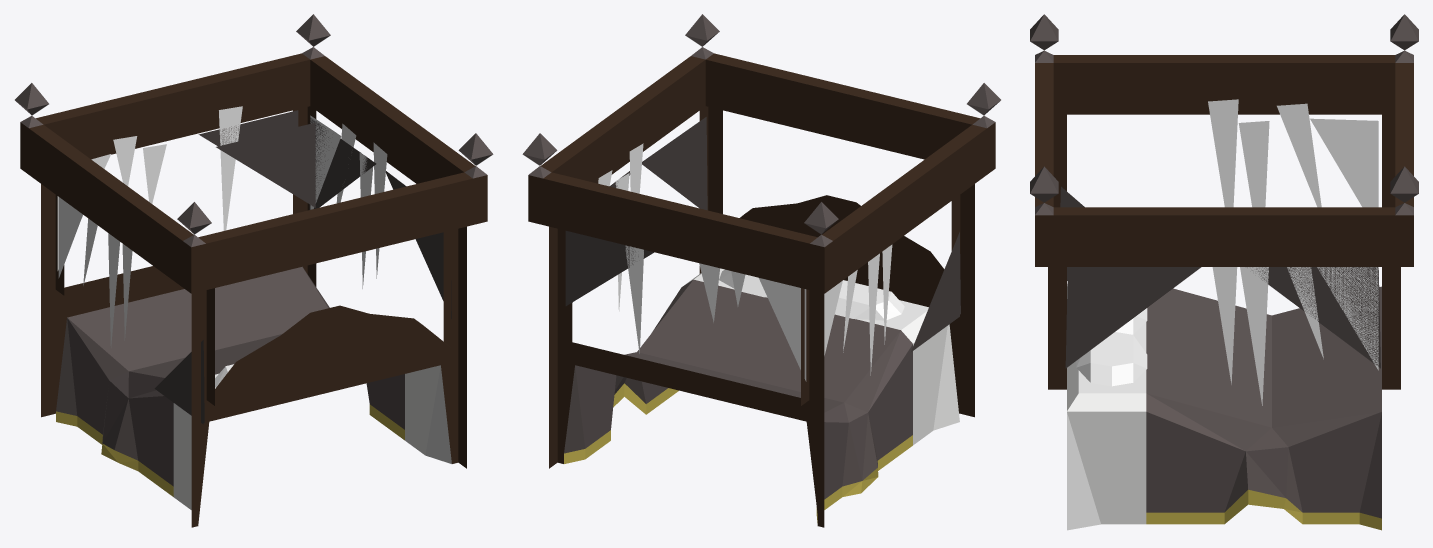
File: obj_bed_14_0.obj
3 renders of one model, left to right at view 1: azimuth 30°, elevation 25°; view 2: azimuth 150°, elevation 25°; view 3: azimuth 270°, elevation 25°, orthographic. The views are drawn at different scales.
Bounding box in the file's own units: 2.56 × 2.7 × 2.56.
